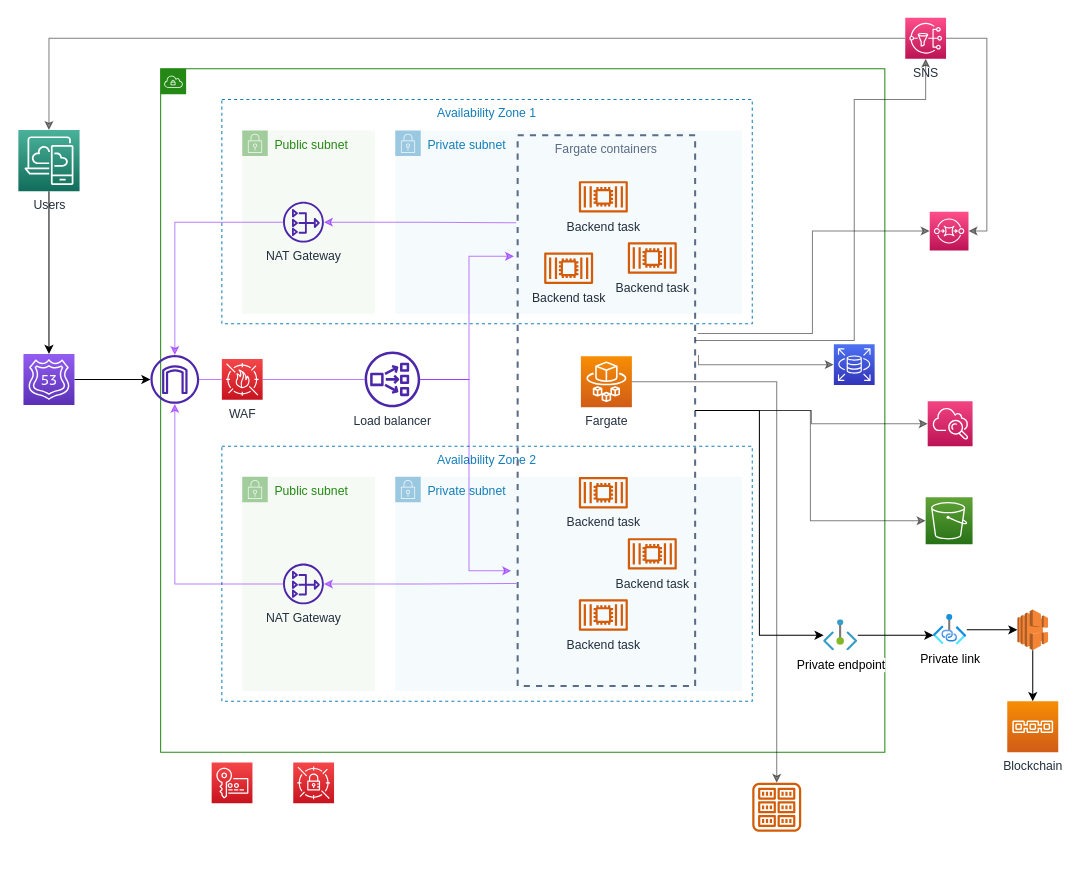
The diagram is 1079 pixels wide and 871 high, and some of its shapes have lost their labels. Here are the shapes that lost their labels. From the top down, the box of each, then its label:
(929, 211, 968, 250): SQS
(22, 353, 74, 405): Route 53
(150, 355, 199, 403): Internet Gateway
(833, 343, 875, 385): RDS SQL database
(160, 68, 885, 752): VPC
(927, 400, 973, 446): Amazon CloudWatch
(925, 496, 973, 544): Amazon S3 storage
(1016, 608, 1048, 650): ELB
(211, 761, 252, 803): KMS
(292, 761, 334, 803): Secrets Manager
(752, 782, 801, 831): Docker images registry
